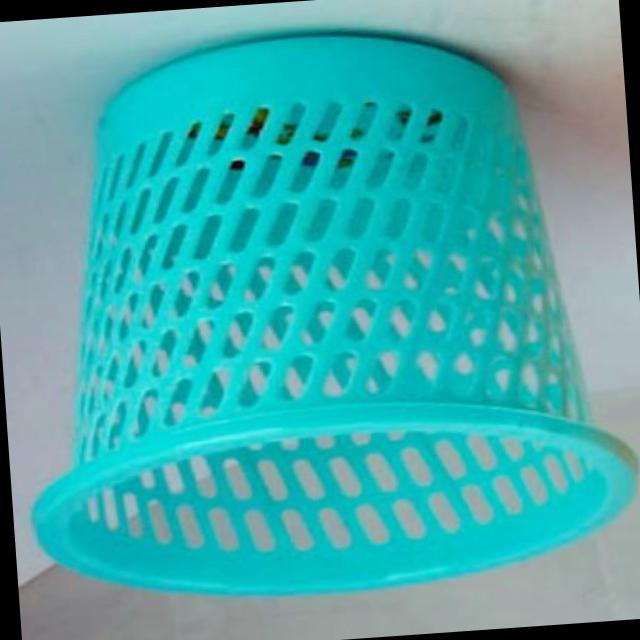dustbin: (2, 9, 640, 620)
